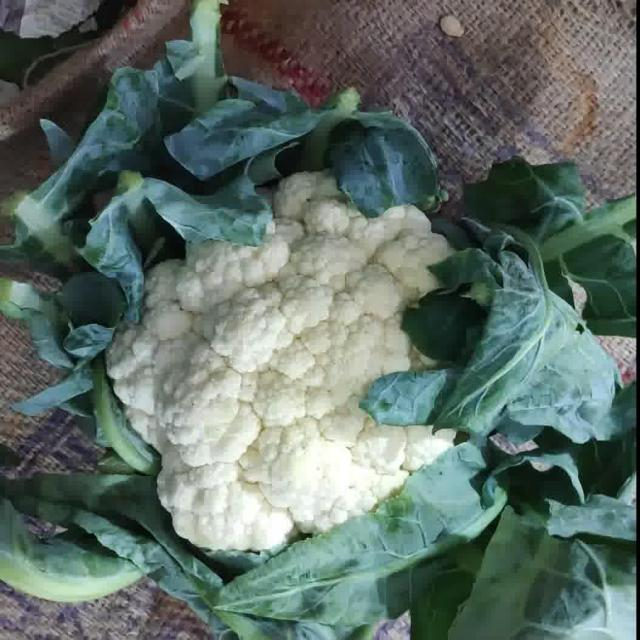Cauliflower: (103, 164, 476, 557)
